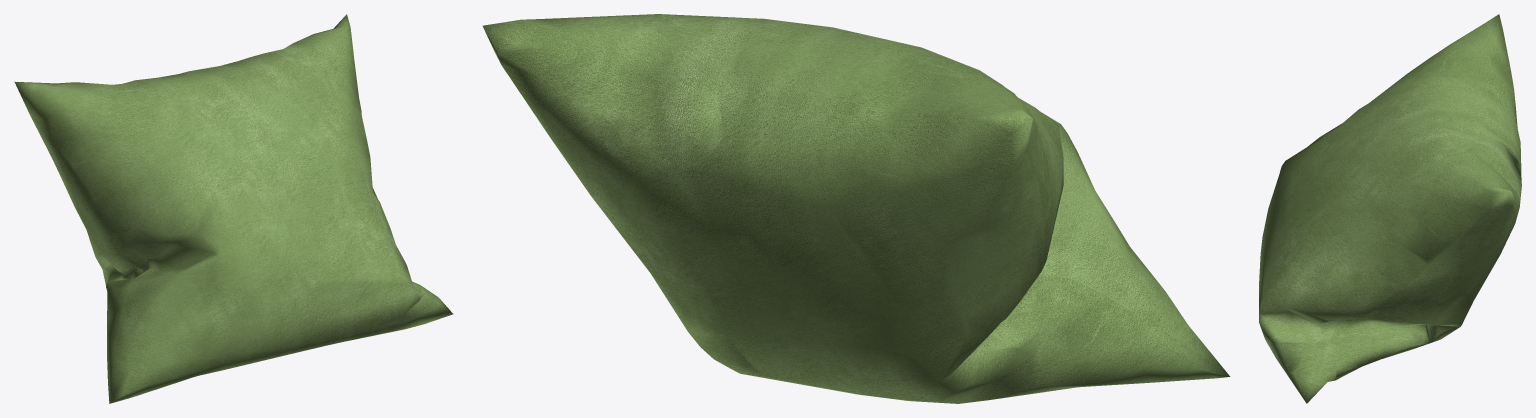
Rendered from Pillow 1.FBX.
3 views of the same model, side by side, from view 1: azimuth 30°, elevation 25°; view 2: azimuth 150°, elevation 25°; view 3: azimuth 270°, elevation 25° (orthographic). The views are drawn at different scales.
Parts seen in each view (by area): view 1: pillow 1; view 2: pillow 1; view 3: pillow 1.
Boxes of the visible parts, x1=… form: pillow 1: x1=14, y1=14, x2=453, y2=403; pillow 1: x1=483, y1=14, x2=1230, y2=403; pillow 1: x1=1259, y1=14, x2=1521, y2=403.
Bounding box in the file's own units: 62.19 × 40.69 × 41.8.
Materials: 1 (1 with a texture image).
